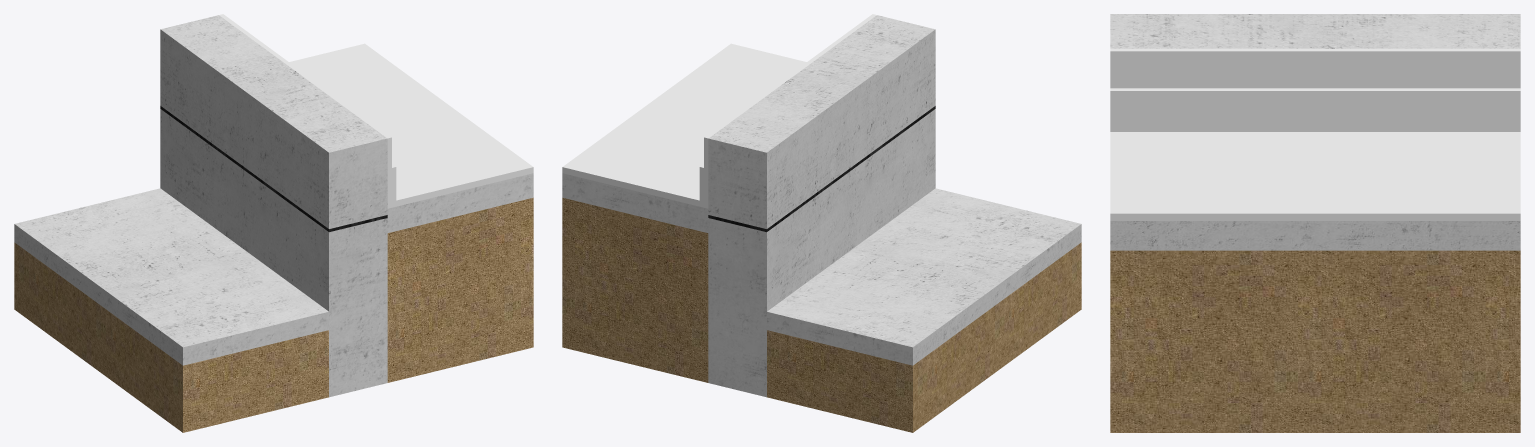
File: damp-proof-a-v2.glb
3 views of the same model, side by side, from view 1: azimuth 30°, elevation 25°; view 2: azimuth 150°, elevation 25°; view 3: azimuth 270°, elevation 25° (orthographic). The views are drawn at different scales.
Visible parts, largest first — view 1: 地面垫层为密实材料; view 2: 地面垫层为密实材料; view 3: 地面垫层为密实材料.
Part boxes in pixels (x1=…): 地面垫层为密实材料: x1=14, y1=14, x2=533, y2=432; 地面垫层为密实材料: x1=562, y1=14, x2=1081, y2=432; 地面垫层为密实材料: x1=1110, y1=14, x2=1520, y2=432.
Bounding box in the file's own units: 1.2 × 0.8 × 1.
Materials: 4 (3 with a texture image).
